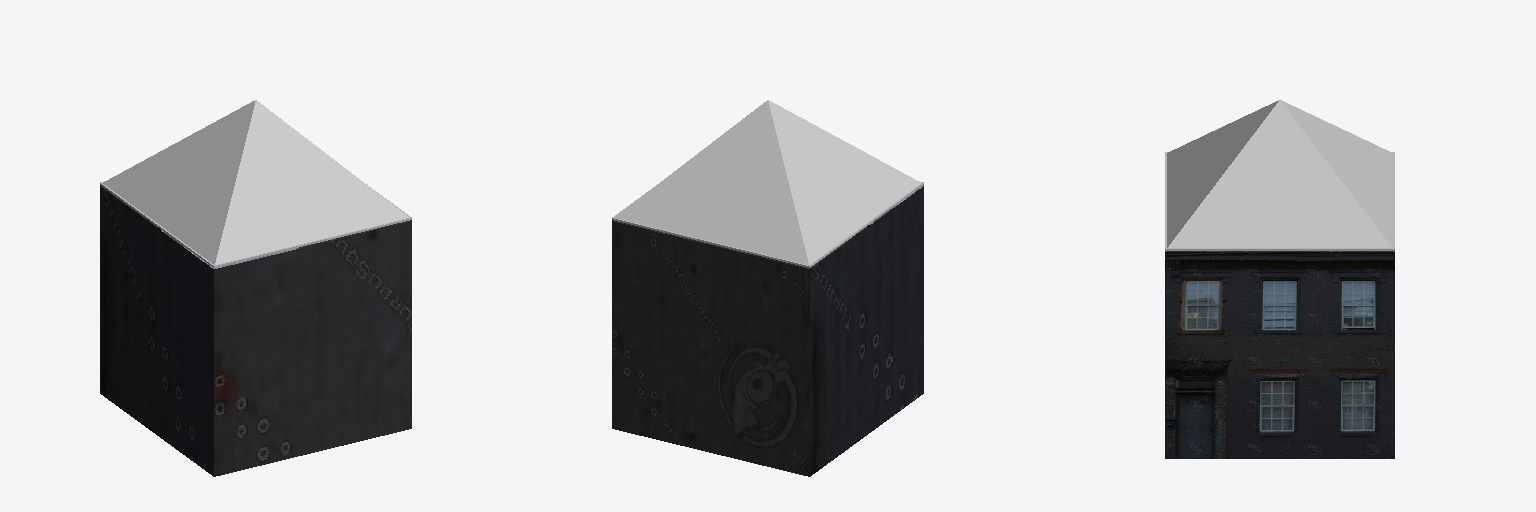
3 views of the same model, side by side, from view 1: azimuth 30°, elevation 25°; view 2: azimuth 150°, elevation 25°; view 3: azimuth 270°, elevation 25° (orthographic).
Visible parts, largest first — view 1: Cube, Cube.001; view 2: Cube, Cube.001; view 3: Cube, Cube.001.
Part boxes in pixels (x1,y1,x2,y2): Cube: (100, 185, 411, 476); Cube.001: (100, 100, 411, 267); Cube: (612, 185, 923, 476); Cube.001: (612, 100, 923, 267); Cube: (1165, 251, 1394, 458); Cube.001: (1165, 100, 1394, 250).
Bounding box in the file's own units: 6.86 × 10.25 × 6.86.
Materials: 2 (1 with a texture image).